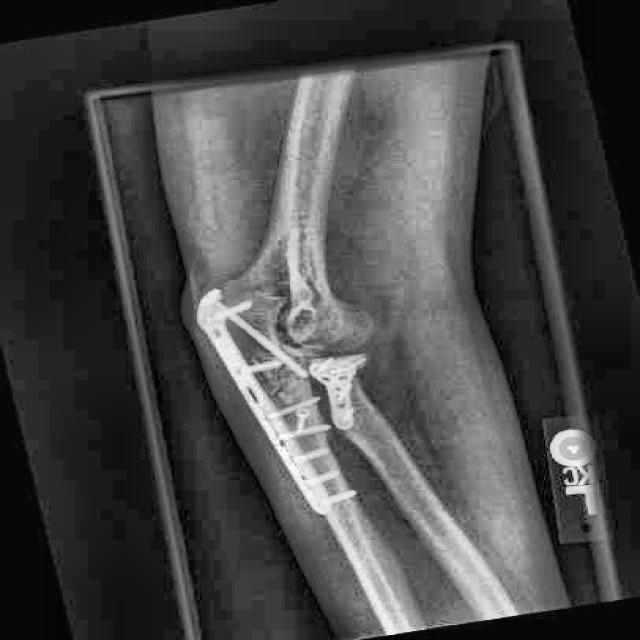elbow positive: (266, 268, 391, 352)
